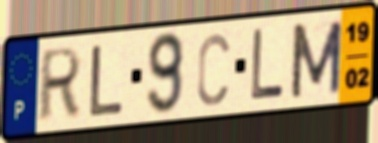9: (144, 29, 185, 118)
C: (195, 30, 232, 109)
L: (249, 26, 287, 104), (87, 43, 126, 119)
M: (288, 17, 345, 101)
R: (35, 44, 85, 125)
